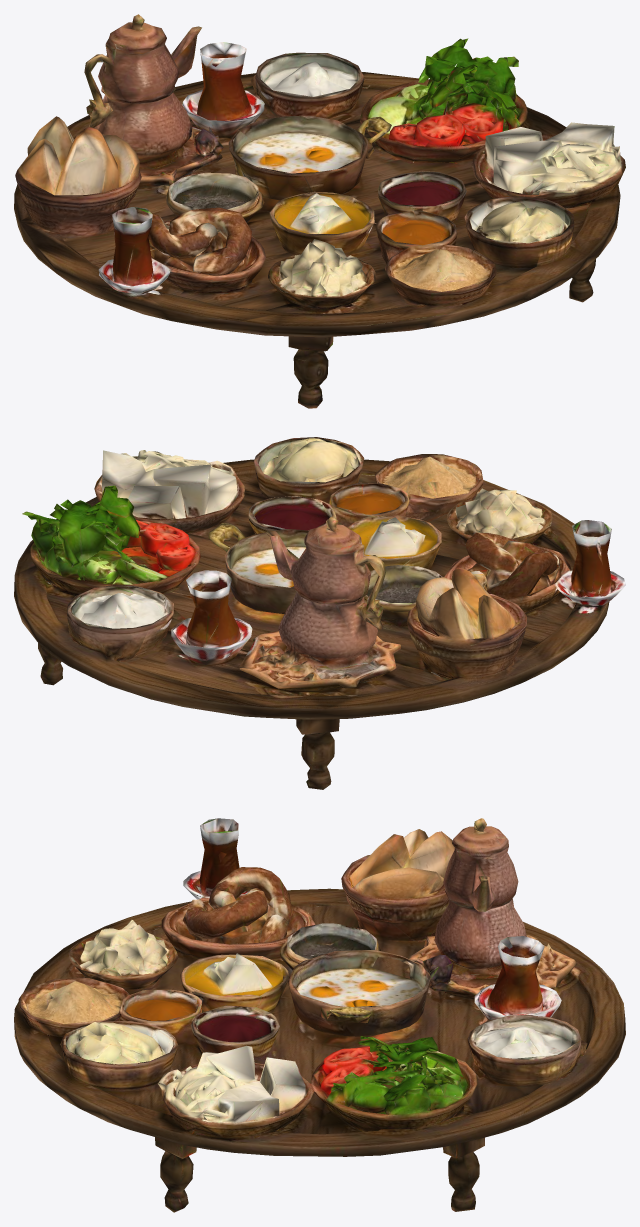
File: city_van_breakfast_table.glb
3 views of the same model, one above another, from view 1: azimuth 30°, elevation 25°; view 2: azimuth 150°, elevation 25°; view 3: azimuth 270°, elevation 25° (orthographic). The views are drawn at different scales.
Visible parts, largest first — view 1: Mesh1.0; view 2: Mesh1.0; view 3: Mesh1.0.
Boxes of the visible parts, x1=… form: Mesh1.0: x1=14, y1=14, x2=625, y2=408; Mesh1.0: x1=14, y1=437, x2=625, y2=789; Mesh1.0: x1=14, y1=818, x2=625, y2=1212.
Size of the model in its own units: 2.93 by 1.3 by 2.92.
1 material, 1 textured.
